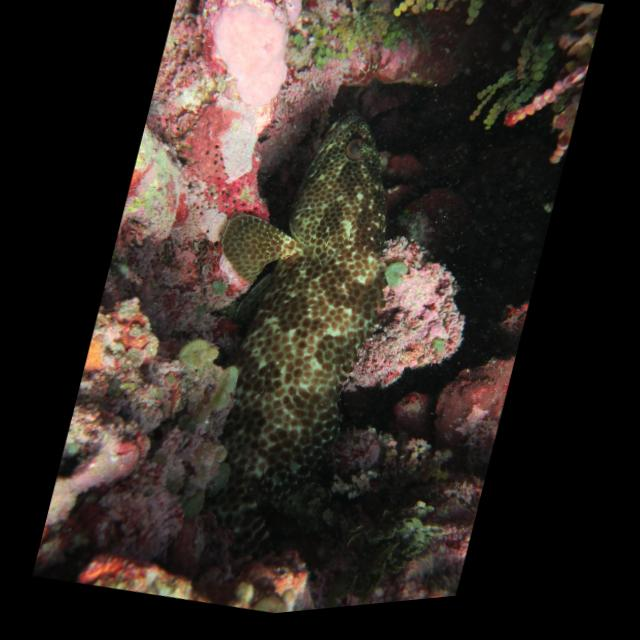Groupers: (144, 77, 431, 591)
